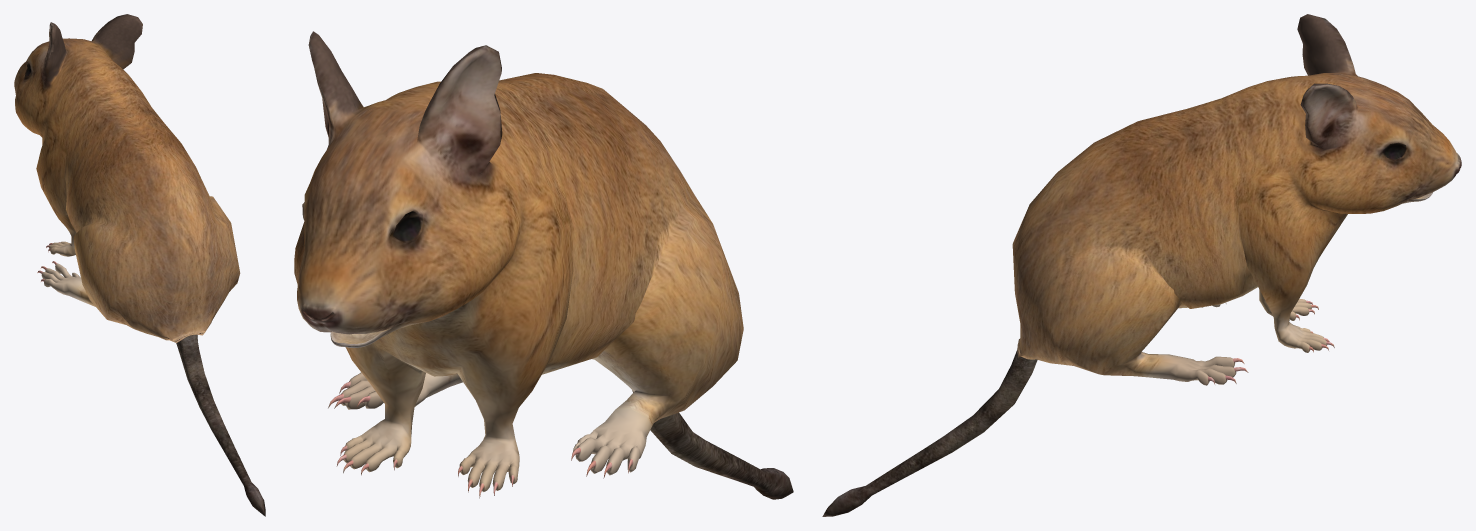
Rendered from souris.glb.
3 renders of one model, left to right at view 1: azimuth 30°, elevation 25°; view 2: azimuth 150°, elevation 25°; view 3: azimuth 270°, elevation 25°, orthographic. The views are drawn at different scales.
Parts seen in each view (by area): view 1: degu_001; view 2: degu_001; view 3: degu_001.
Part boxes in pixels (bbox=[...]): degu_001: bbox=[14, 14, 265, 516]; degu_001: bbox=[294, 31, 793, 499]; degu_001: bbox=[822, 14, 1461, 516].
Size of the model in its own units: 0.1881 by 0.4324 by 0.5175.
Materials: 1 (1 with a texture image).
